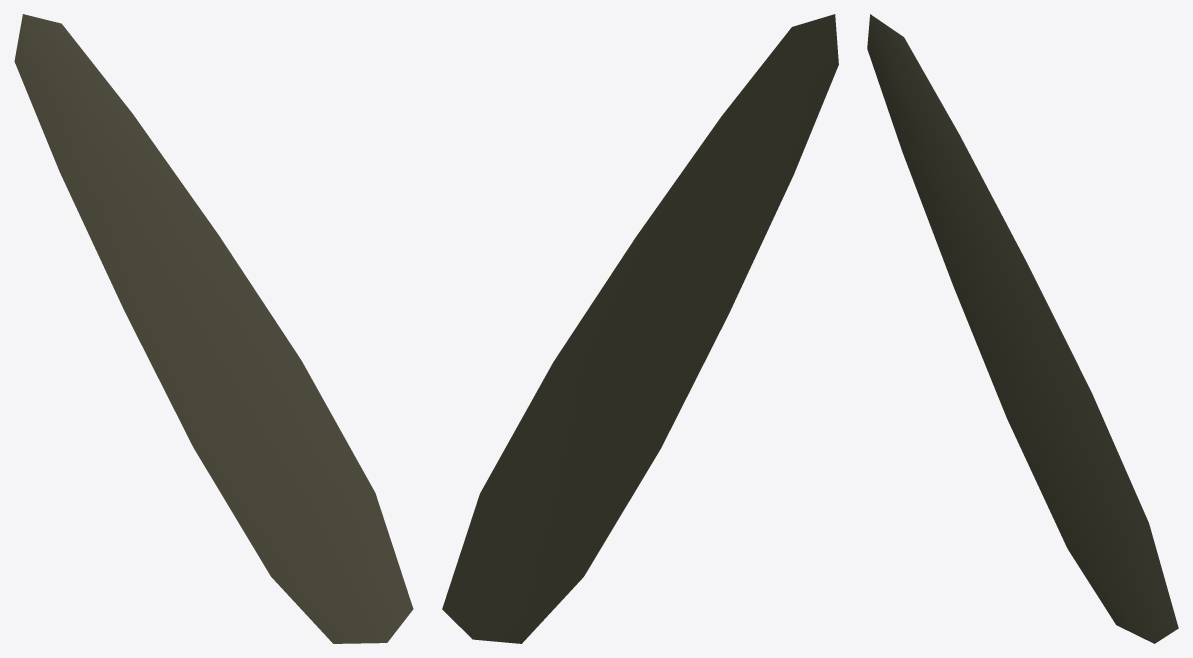
Rendered from finch_feather_flight_primary_011.obj.
3 renders of one model, left to right at view 1: azimuth 30°, elevation 25°; view 2: azimuth 150°, elevation 25°; view 3: azimuth 330°, elevation 25°, orthographic. The views are drawn at different scales.
Parts seen in each view (by area): view 1: feather_flight_primary_011; view 2: feather_flight_primary_011; view 3: feather_flight_primary_011.
Part boxes in pixels (x1,y1,x2,y2): feather_flight_primary_011: (14, 14, 413, 643); feather_flight_primary_011: (442, 14, 838, 643); feather_flight_primary_011: (867, 14, 1178, 643).
Size of the model in its own units: 0.0245 by 0.0422 by 0.000249.
